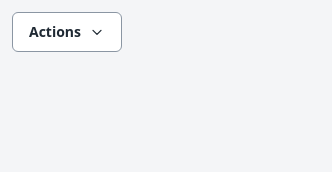
Menu › closes on Escape without choosing
The width and height of the screenshot is (332, 172).
Click the button "Actions" at (67, 32), box [12,12,122,52]
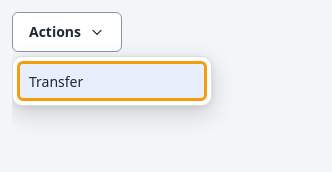
Press Escape
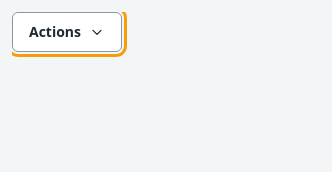
Result: the menu is gone
